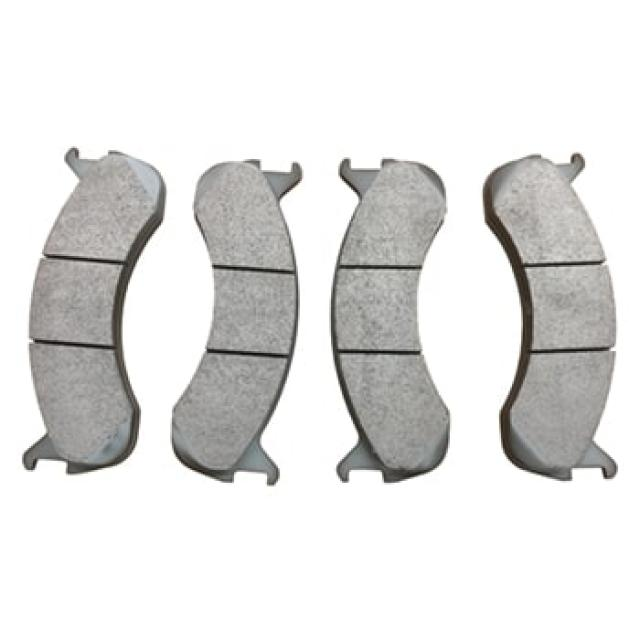brake_pad: (479, 146, 640, 524), (0, 146, 175, 482), (324, 155, 462, 498), (181, 152, 304, 508)
